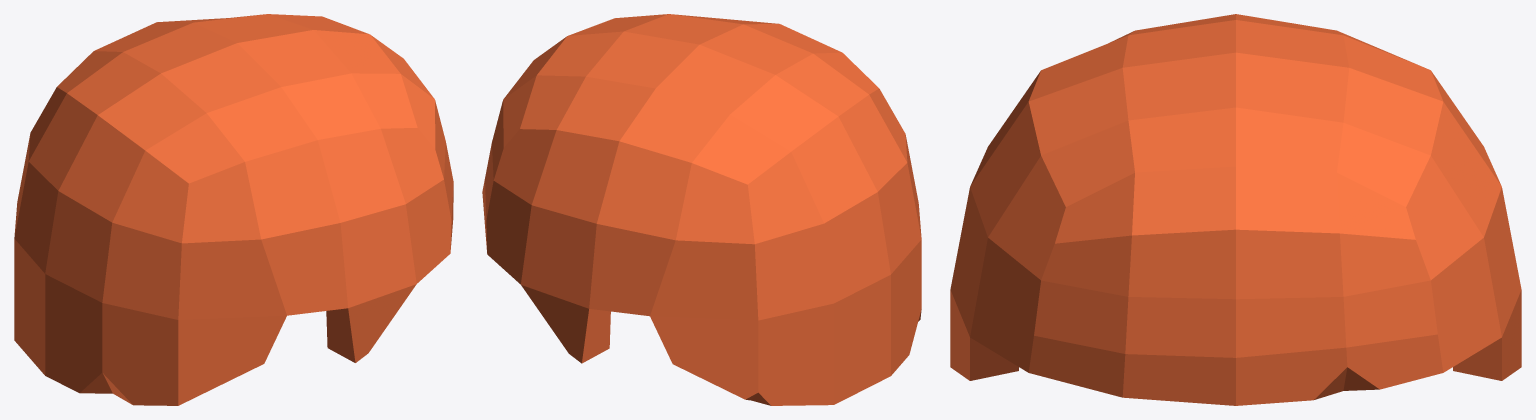
The model's file is ManHairRed.fbx.
3 renders of one model, left to right at view 1: azimuth 30°, elevation 25°; view 2: azimuth 150°, elevation 25°; view 3: azimuth 270°, elevation 25°, orthographic. The views are drawn at different scales.
Parts seen in each view (by area): view 1: Cube; view 2: Cube; view 3: Cube.
Boxes of the visible parts, x1,y1,x2,y2 form: Cube: [14, 14, 453, 405]; Cube: [482, 14, 921, 405]; Cube: [950, 14, 1521, 405].
Bounding box in the file's own units: 165 × 119 × 168.
